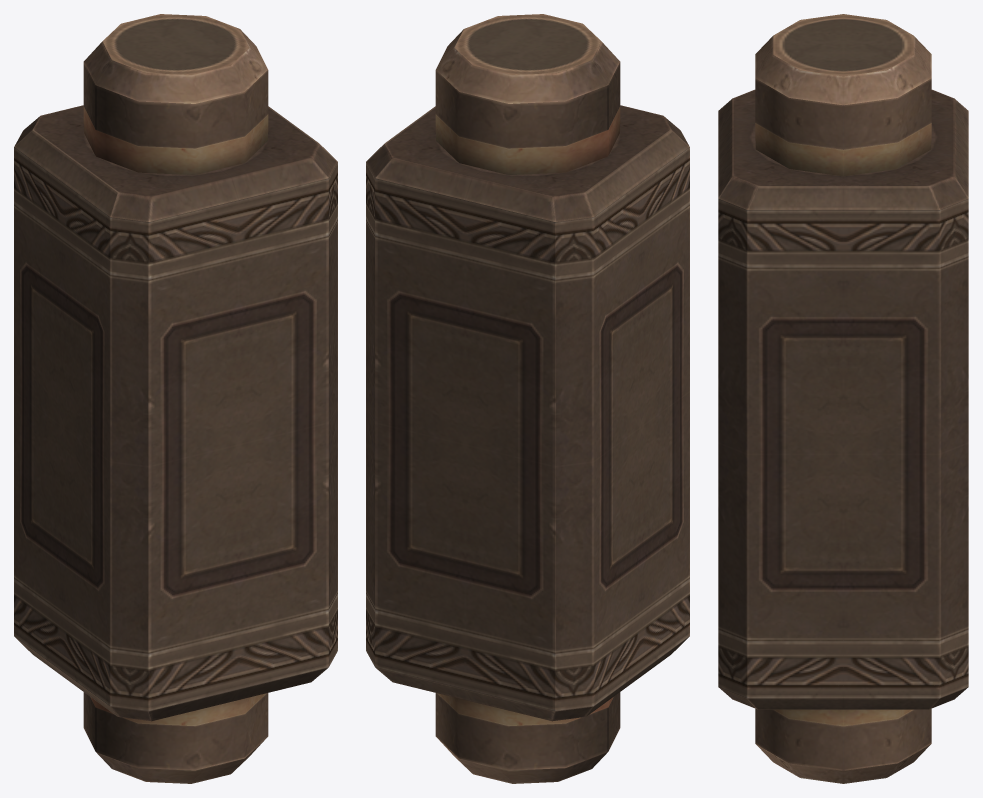
File: huoshan_Wujian_04.FBX
3 views of the same model, side by side, from view 1: azimuth 30°, elevation 25°; view 2: azimuth 150°, elevation 25°; view 3: azimuth 270°, elevation 25° (orthographic).
Parts seen in each view (by area): view 1: huoshan_Wujian_04; view 2: huoshan_Wujian_04; view 3: huoshan_Wujian_04.
Part boxes in pixels (left/top/right/bottom): huoshan_Wujian_04: left=14, top=14, right=337, bottom=783; huoshan_Wujian_04: left=366, top=14, right=689, bottom=783; huoshan_Wujian_04: left=718, top=14, right=968, bottom=783.
Size of the model in its own units: 241 by 717 by 230.
